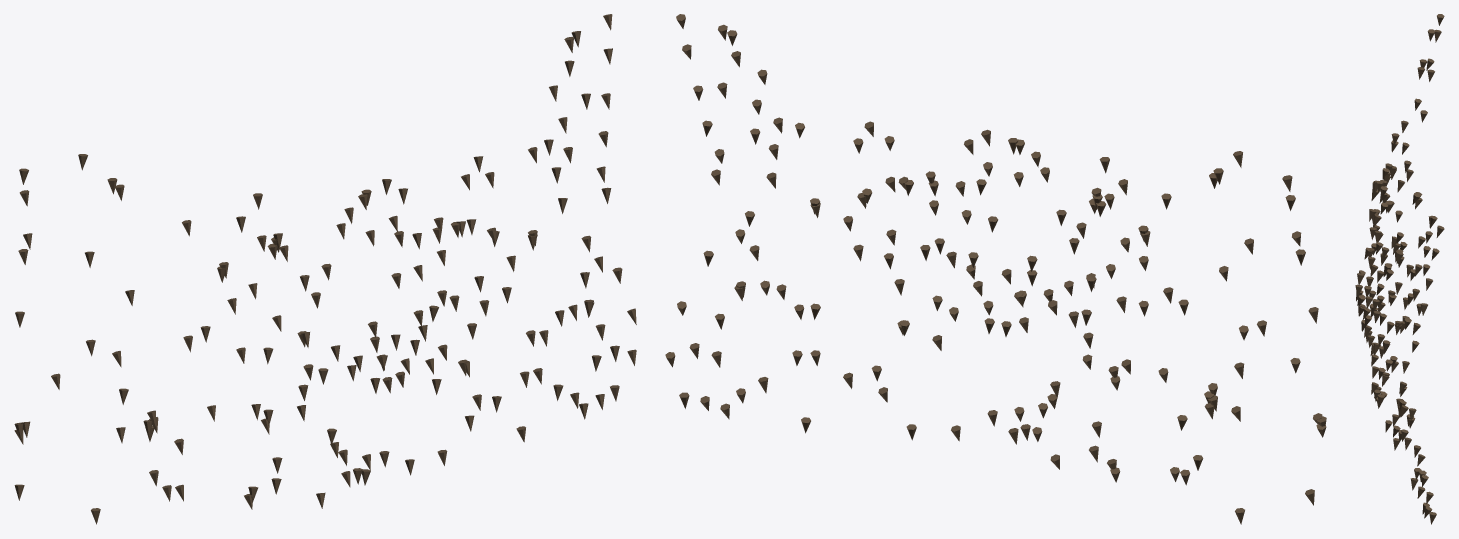
Rendered from stubble.glb.
3 renders of one model, left to right at view 1: azimuth 30°, elevation 25°; view 2: azimuth 150°, elevation 25°; view 3: azimuth 270°, elevation 25°, orthographic. The views are drawn at different scales.
Size of the model in its own units: 0.1563 by 0.0928 by 0.0248.
